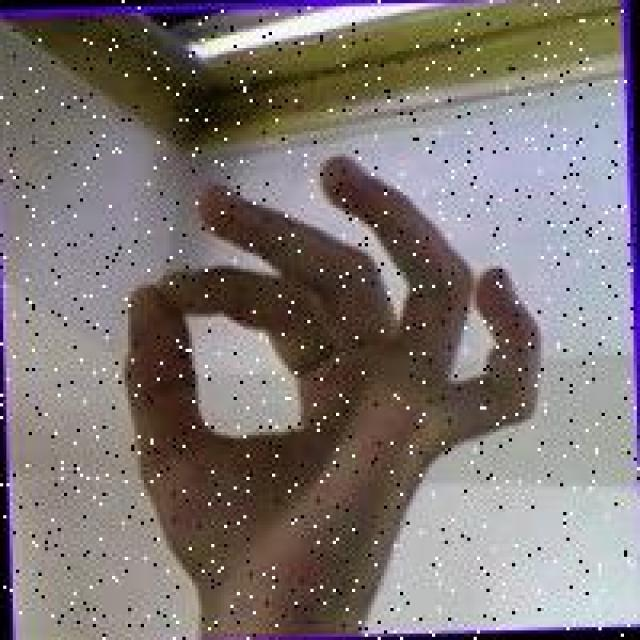F: (112, 141, 563, 621)
